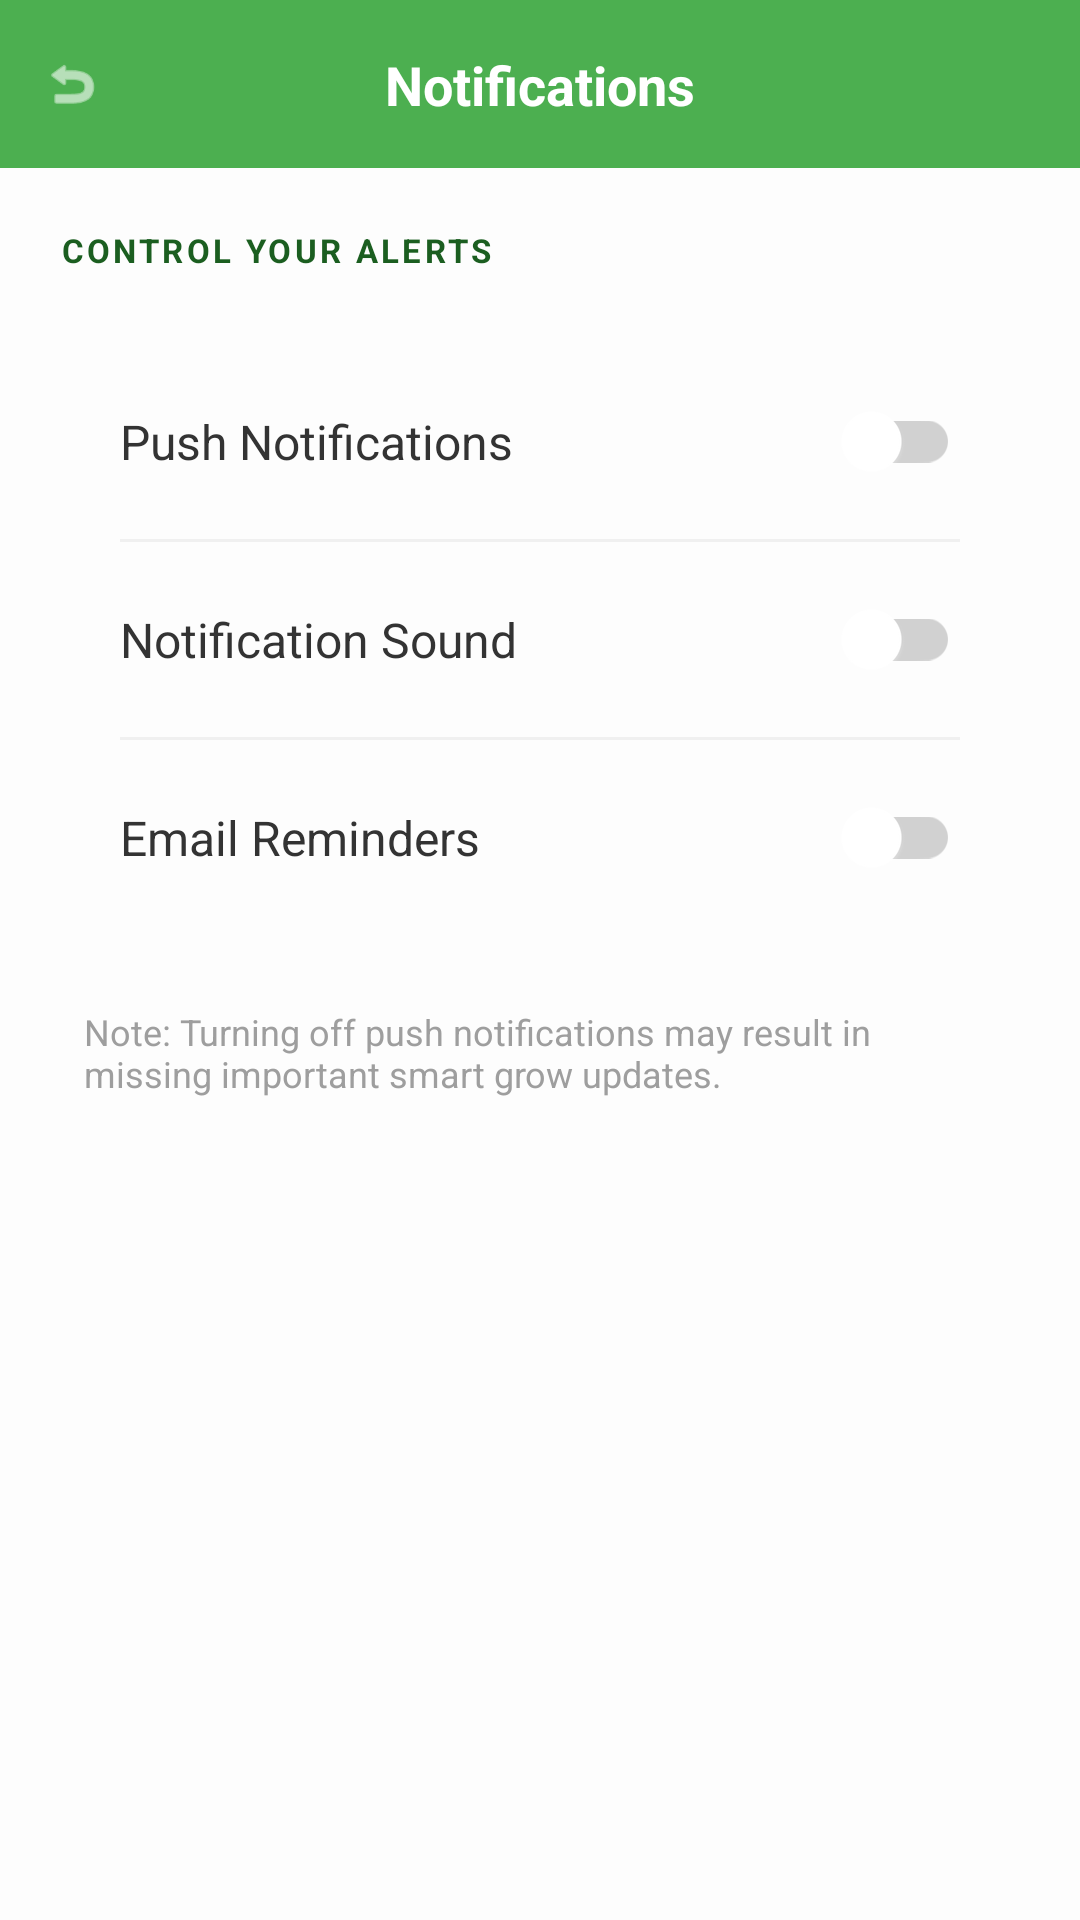

Icon click points for this 1080x1920 phone screenshot, format [x,y]:
revert: [72,84]
